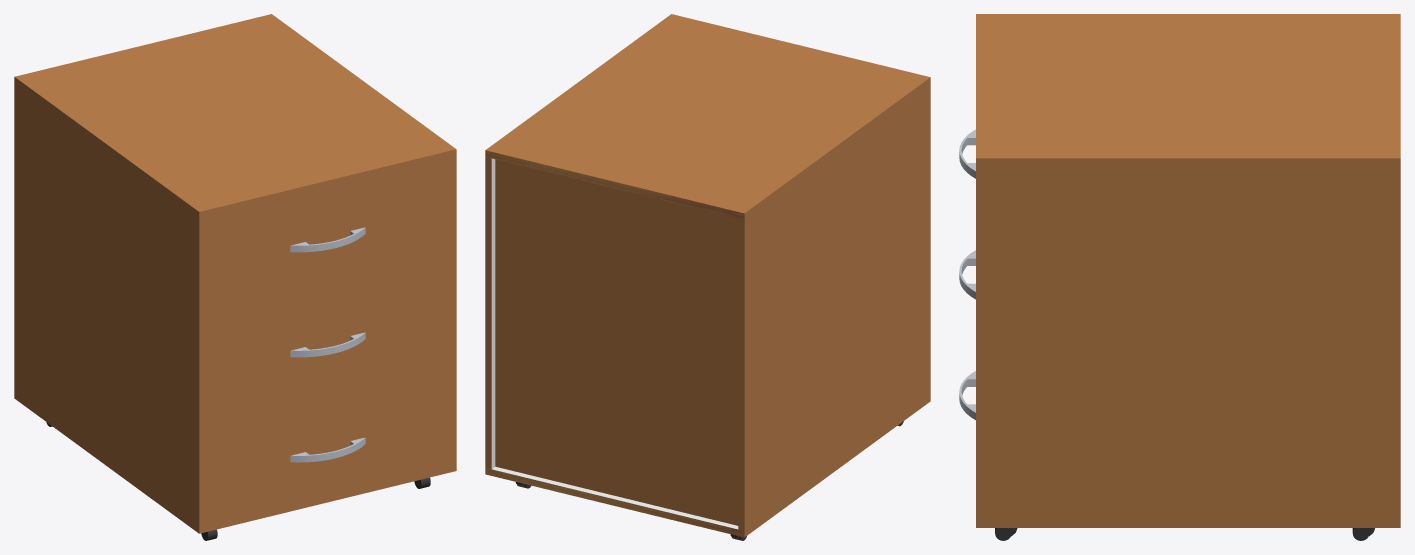
Rendered from Office cupboard.fbx.
3 renders of one model, left to right at view 1: azimuth 30°, elevation 25°; view 2: azimuth 150°, elevation 25°; view 3: azimuth 270°, elevation 25°, orthographic. The views are drawn at different scales.
Parts seen in each view (by area): view 1: Group3, Group1, Group4, Group6, Group5, Group7, Group2; view 2: Group3; view 3: Group3, Group6, Group4, Group1.
Boxes of the visible parts, x1=… form: Group3: x1=14, y1=14, x2=456, y2=530; Group1: x1=195, y1=366, x2=456, y2=533; Group4: x1=195, y1=261, x2=456, y2=428; Group6: x1=195, y1=156, x2=456, y2=323; Group5: x1=290, y1=332, x2=365, y2=357; Group7: x1=290, y1=227, x2=365, y2=252; Group2: x1=290, y1=437, x2=365, y2=462; Group3: x1=485, y1=14, x2=930, y2=537; Group3: x1=976, y1=14, x2=1400, y2=527; Group6: x1=976, y1=165, x2=984, y2=286; Group4: x1=976, y1=286, x2=984, y2=407; Group1: x1=976, y1=407, x2=984, y2=527.
Size of the model in its own units: 0.41 by 0.52 by 0.53.
